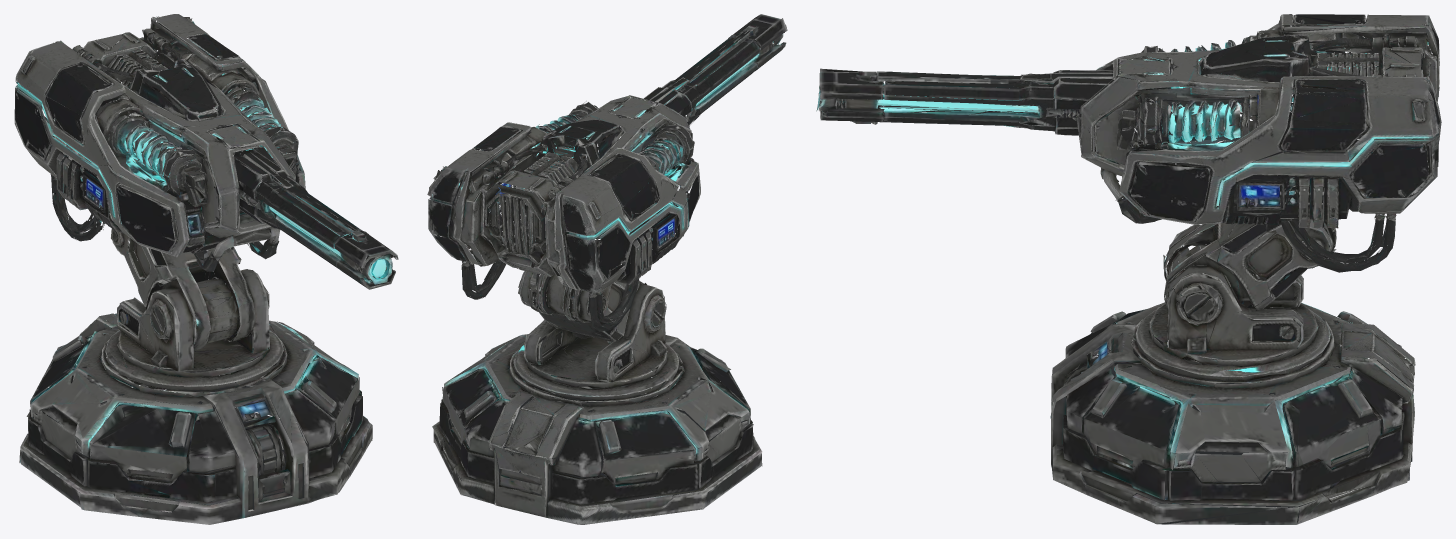
Rendered from tower_laser.glb.
3 views of the same model, side by side, from view 1: azimuth 30°, elevation 25°; view 2: azimuth 150°, elevation 25°; view 3: azimuth 270°, elevation 25° (orthographic). The views are drawn at different scales.
Parts seen in each view (by area): view 1: head, base; view 2: base, head; view 3: head, base.
Part boxes in pixels (bbox=[...]): head: bbox=[14, 14, 398, 325]; base: bbox=[19, 271, 372, 524]; base: bbox=[432, 290, 762, 524]; head: bbox=[427, 14, 787, 332]; head: bbox=[816, 14, 1441, 301]; base: bbox=[1050, 246, 1415, 524].
Bounding box in the file's own units: 0.8044 × 0.9503 × 1.34.
1 material, 1 textured.
